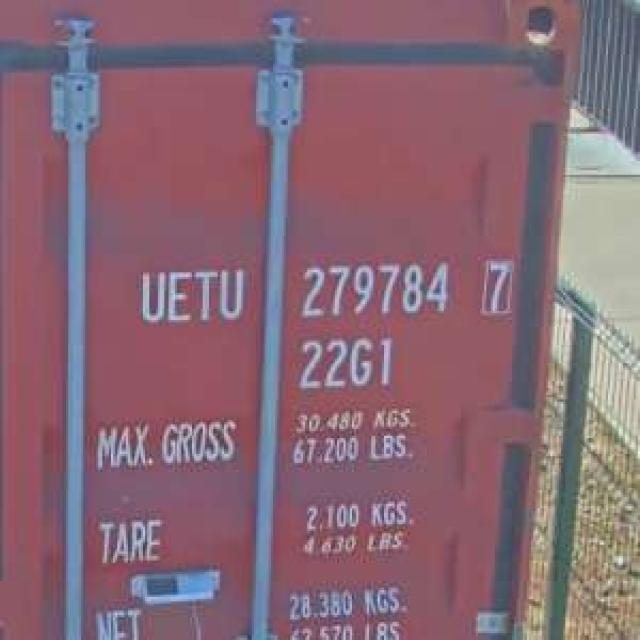dv: (477, 255, 514, 318)
owner: (132, 262, 248, 330)
serial: (295, 255, 456, 322)
size: (290, 330, 395, 394)
